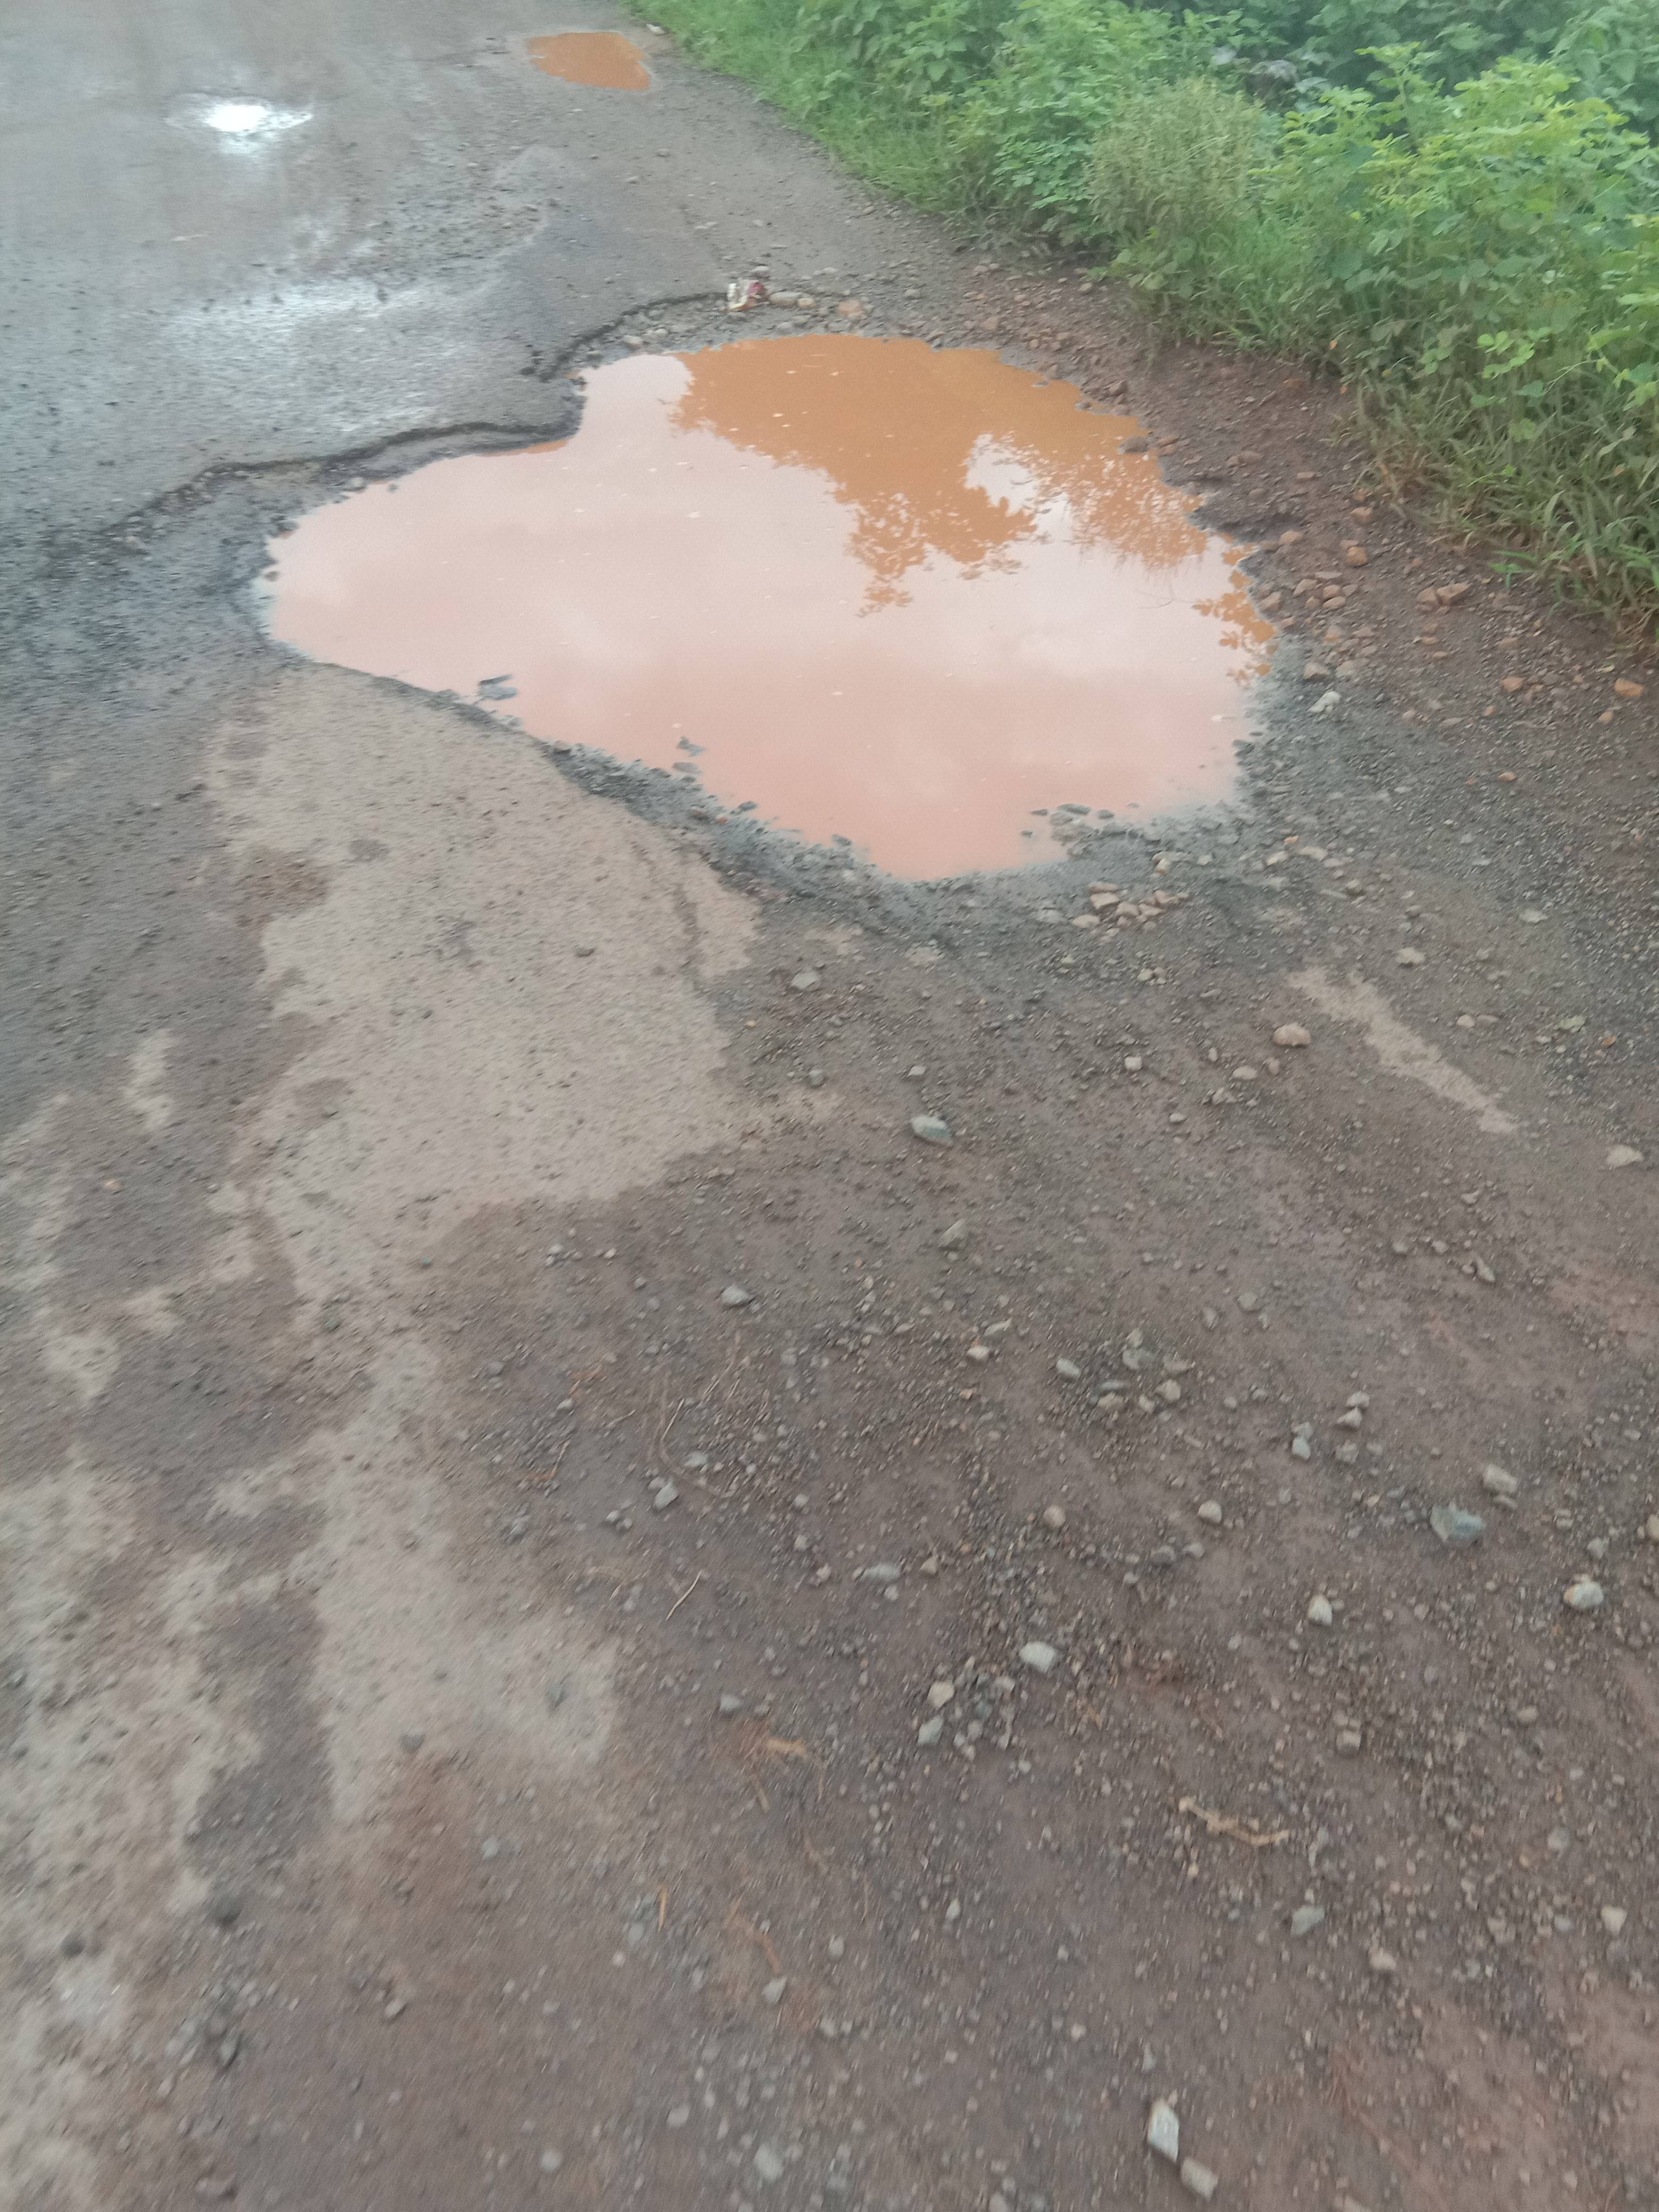potholes: (232, 291, 1305, 928), (486, 14, 678, 124), (211, 92, 345, 155)
